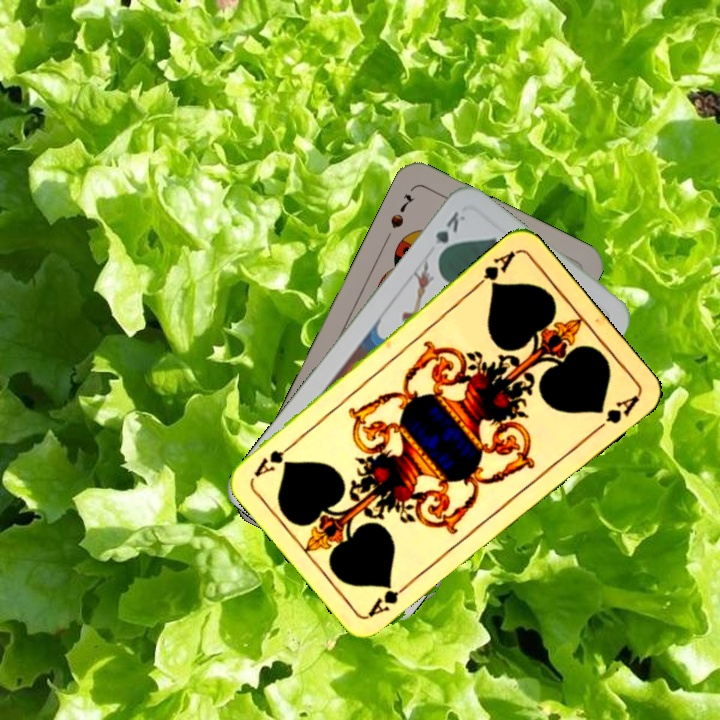GA: (470, 246, 518, 292), (364, 576, 415, 619)
GK: (430, 207, 468, 261)
S7: (386, 189, 417, 232)
